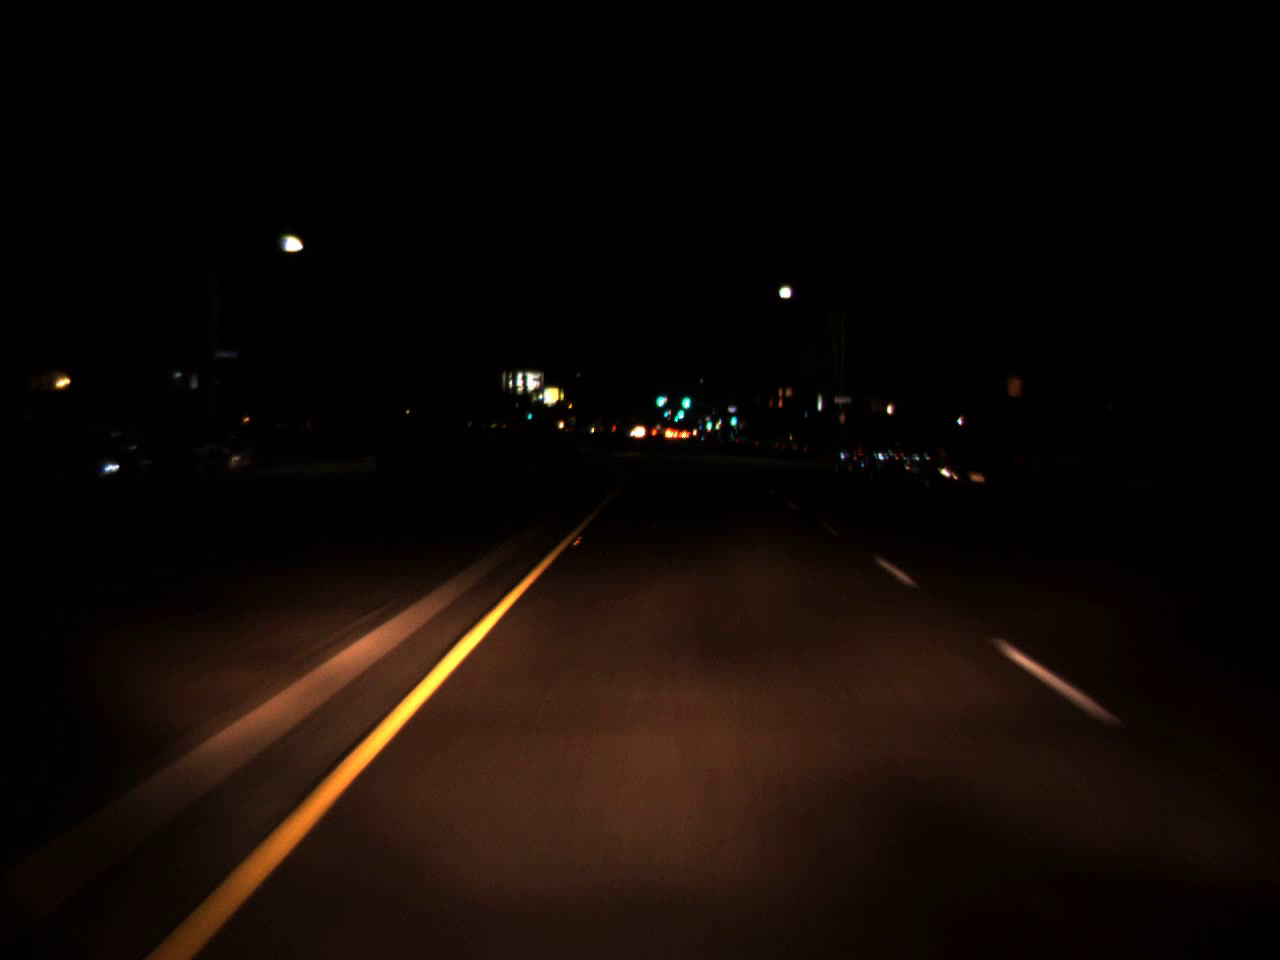go: (681, 388, 691, 412), (703, 410, 713, 434), (670, 406, 680, 424), (655, 389, 664, 407), (675, 404, 685, 419), (730, 407, 737, 428), (662, 404, 669, 419), (525, 406, 532, 421)
